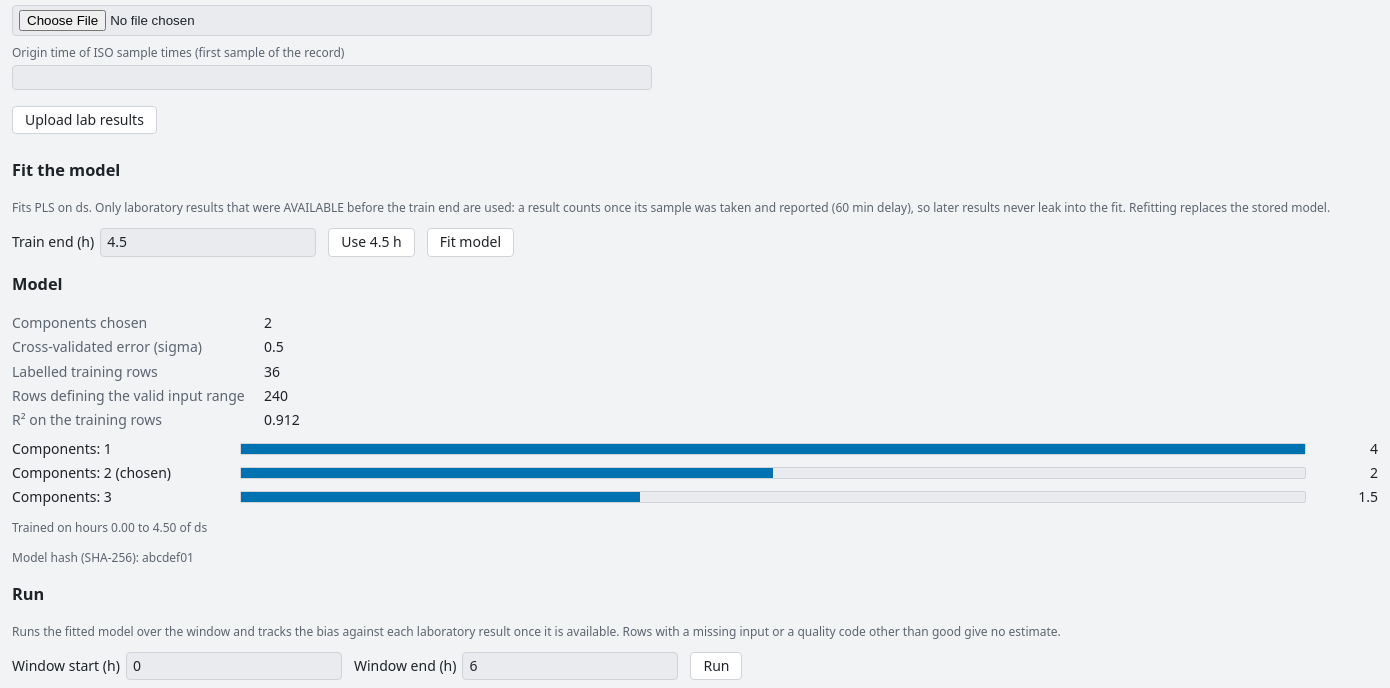
Test: run on the page › names the unknown tag
(page scrolled)
Click the button "Run": (716, 666) [690,652,742,680]
(page scrolled)
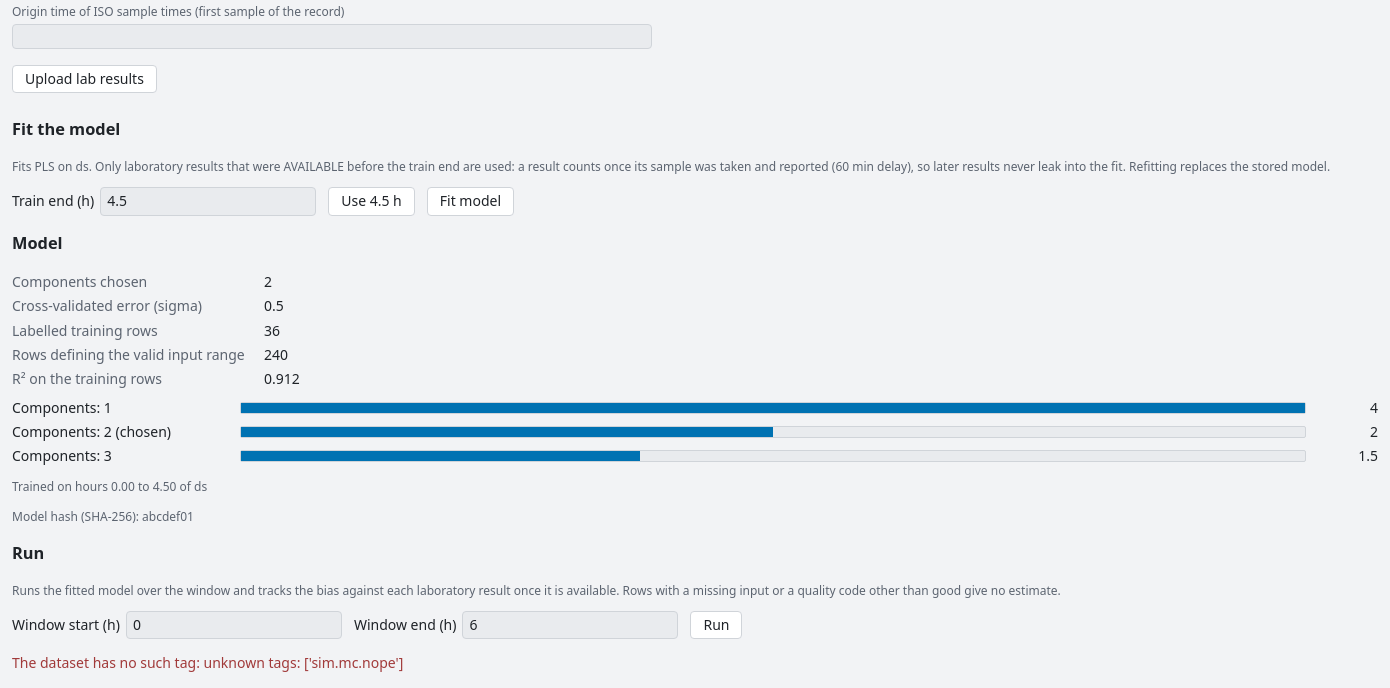
Now the message reads "The dataset has no such tag: unknown tags: ['sim.mc.nope']", box [12,653,403,672]
